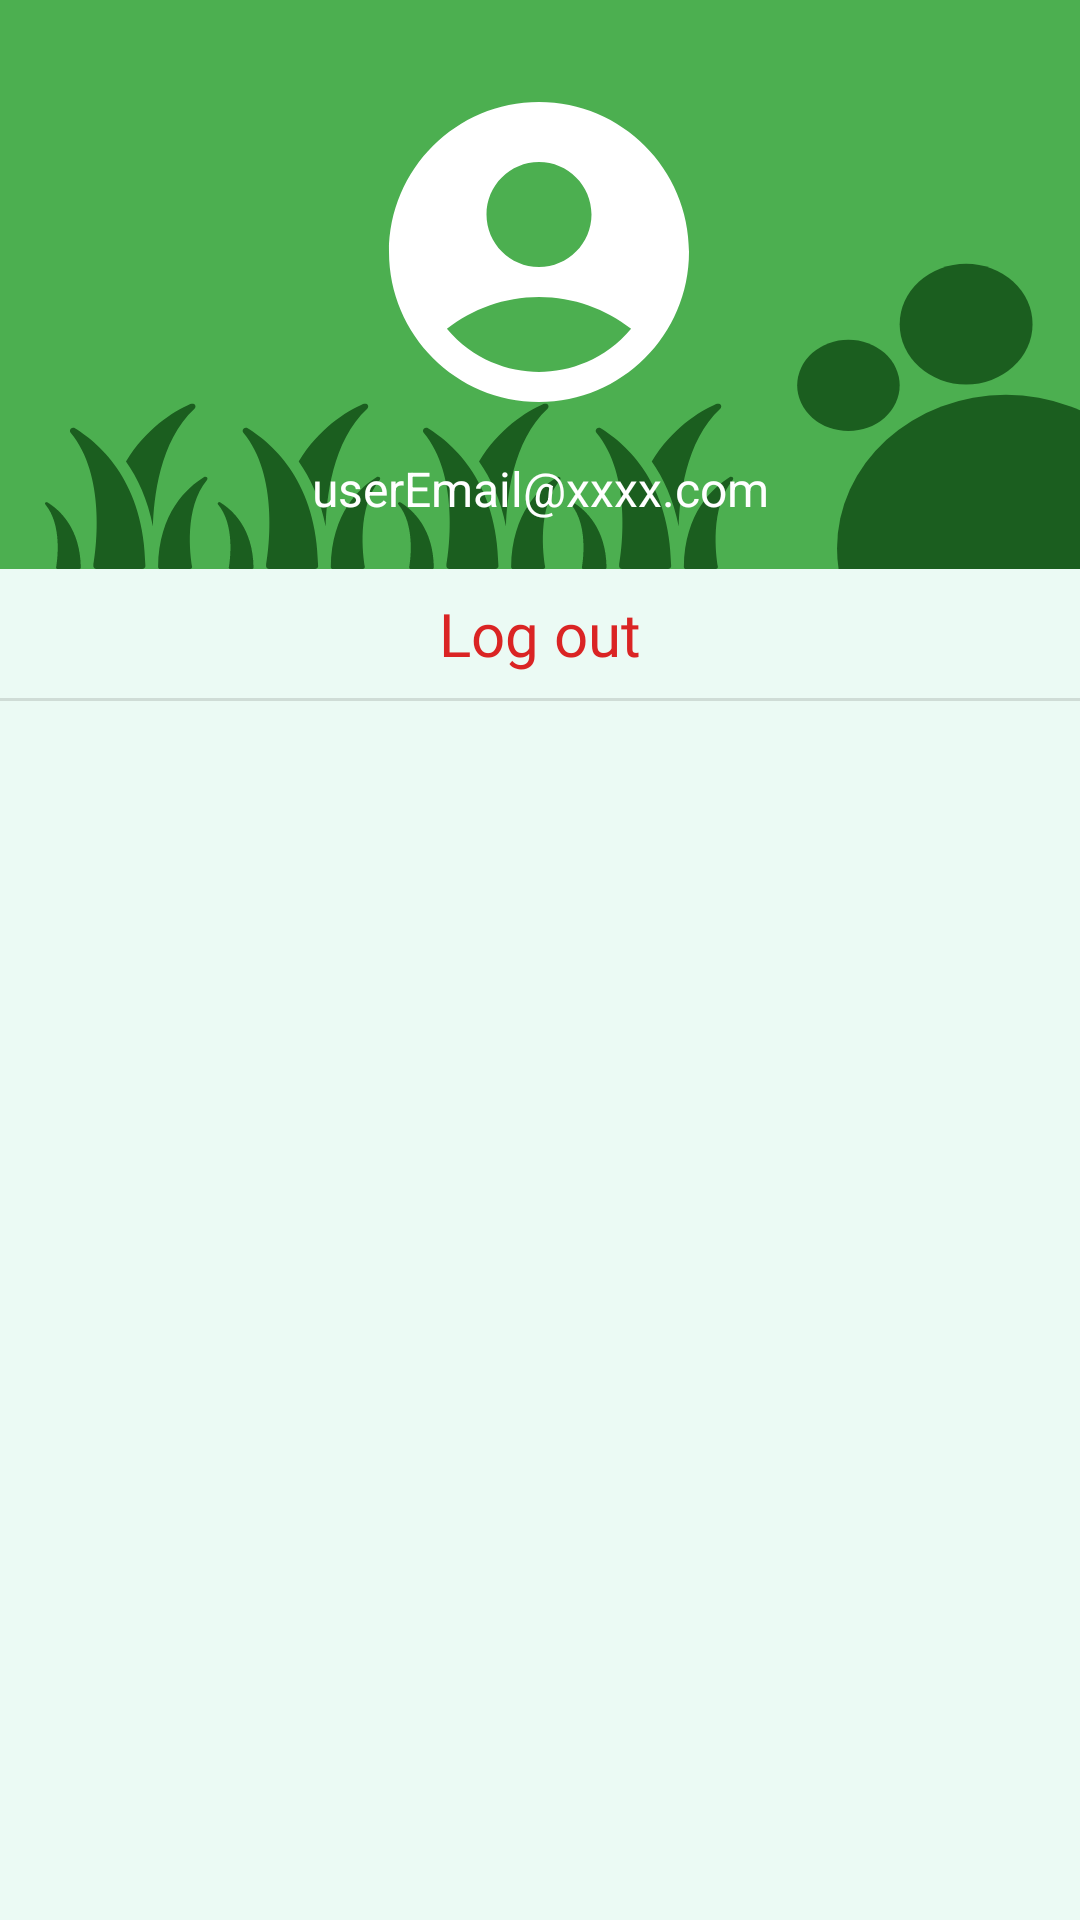

Named icons in this screenshot (1080w x 1920h) and their bounding boxes, bbox=[x1, y1, x2, y2]:
account circle: bbox=[389, 102, 689, 402]
